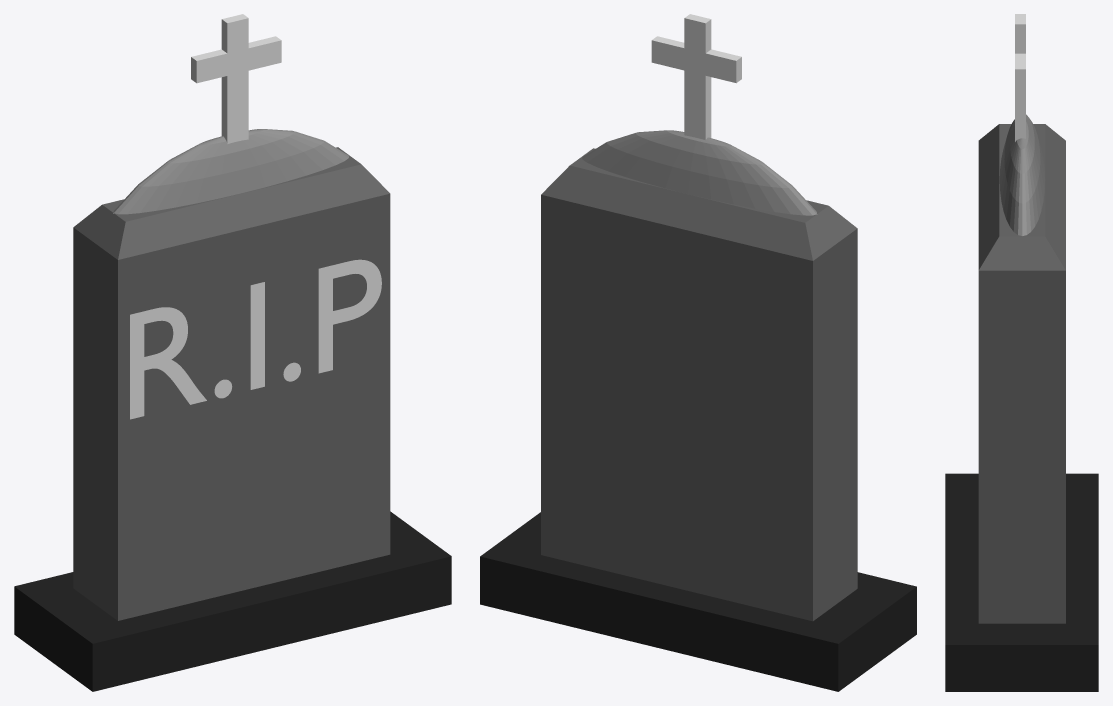
File: TumbaParaUnity.fbx
3 renders of one model, left to right at view 1: azimuth 30°, elevation 25°; view 2: azimuth 150°, elevation 25°; view 3: azimuth 270°, elevation 25°, orthographic. The views are drawn at different scales.
Parts seen in each view (by area): view 1: Sphere, Text; view 2: Sphere; view 3: Sphere.
Boxes of the visible parts, x1,y1,x2,y2 form: Sphere: [14, 14, 451, 691]; Text: [130, 259, 381, 419]; Sphere: [480, 14, 916, 691]; Sphere: [945, 14, 1098, 691].
Size of the model in its own units: 264 by 422 by 99.86.
1 material, 1 textured.
